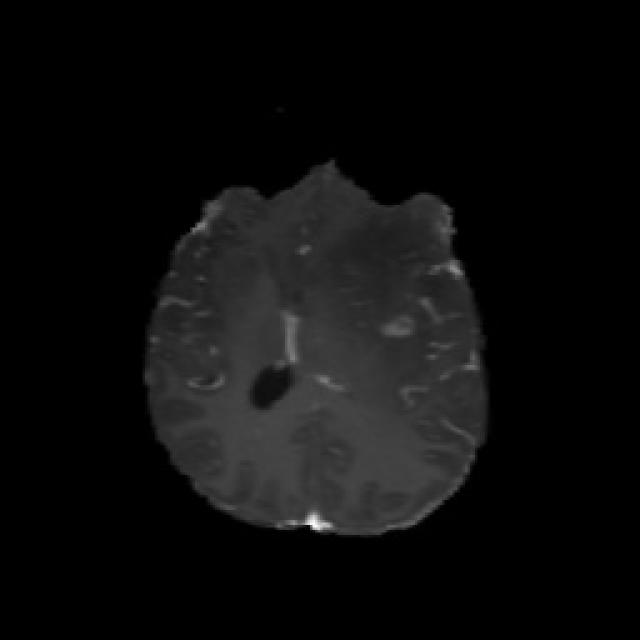negative: (384, 312, 416, 340)
